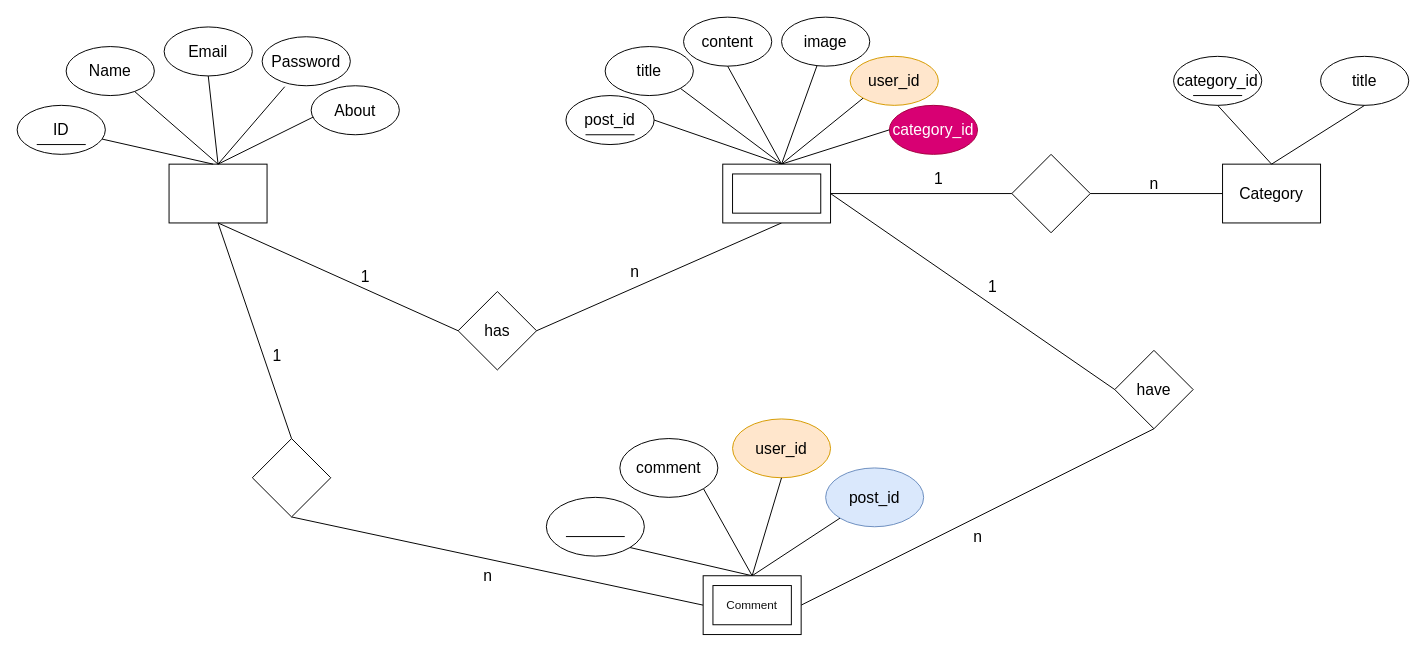
Some shapes in this 1426 by 652 pixel diagram are drawn without their labels. Each missing label, with the box of its shape:
can: (251, 438, 331, 517)
comment_id: (545, 496, 644, 556)
in: (1011, 153, 1090, 233)
Post: (732, 173, 821, 213)
User: (168, 163, 267, 223)
